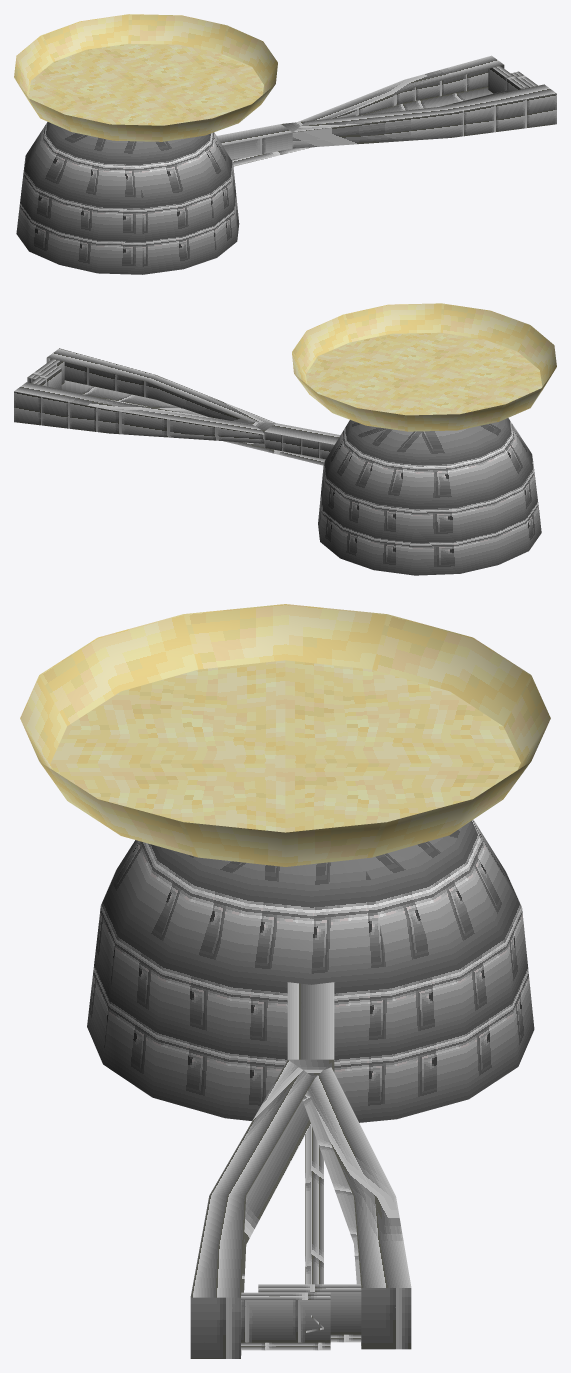
The model's file is disher0.gltf.
3 views of the same model, one above another, from view 1: azimuth 30°, elevation 25°; view 2: azimuth 150°, elevation 25°; view 3: azimuth 270°, elevation 25° (orthographic). The views are drawn at different scales.
Parts seen in each view (by area): view 1: disher0; view 2: disher0; view 3: disher0.
Boxes of the visible parts, box(x1,y1,x2,y2) form: disher0: box(14, 14, 556, 274); disher0: box(14, 303, 556, 575); disher0: box(20, 604, 550, 1358).
Size of the model in its own units: 0.6864 by 0.2113 by 0.3129.
4 materials, 4 textured.
